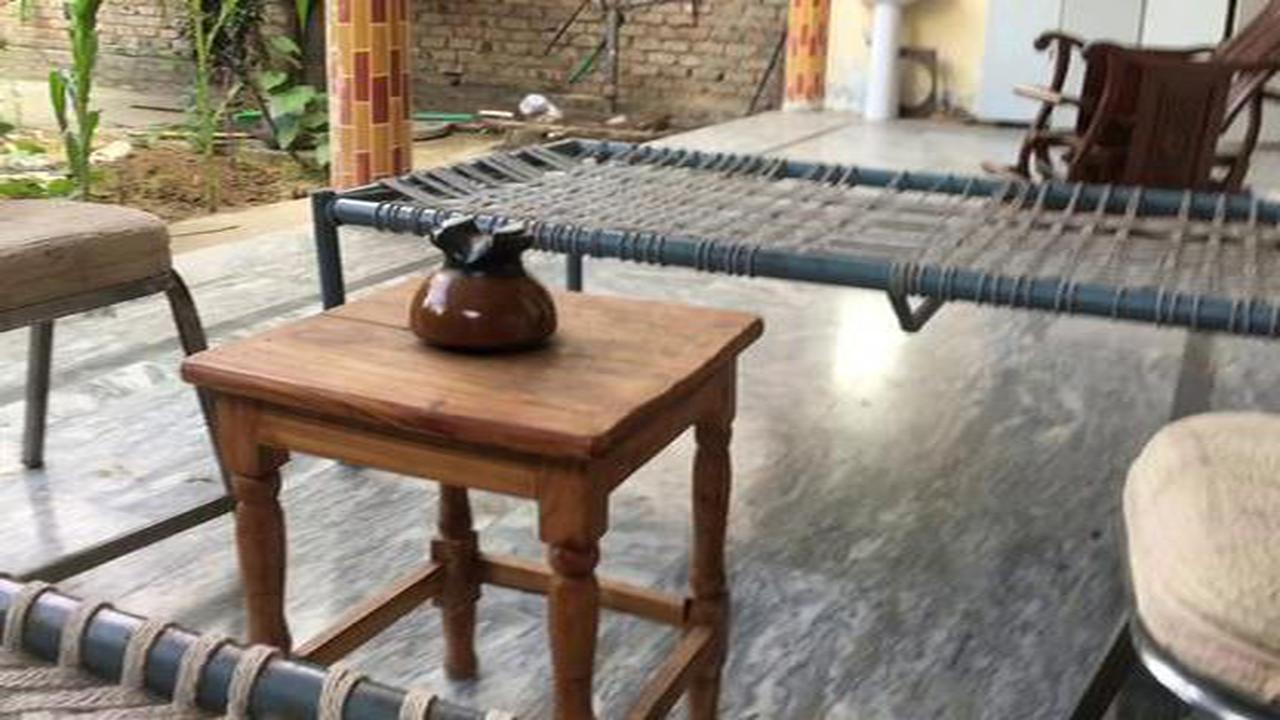insulator_pin: (388, 193, 582, 364)
